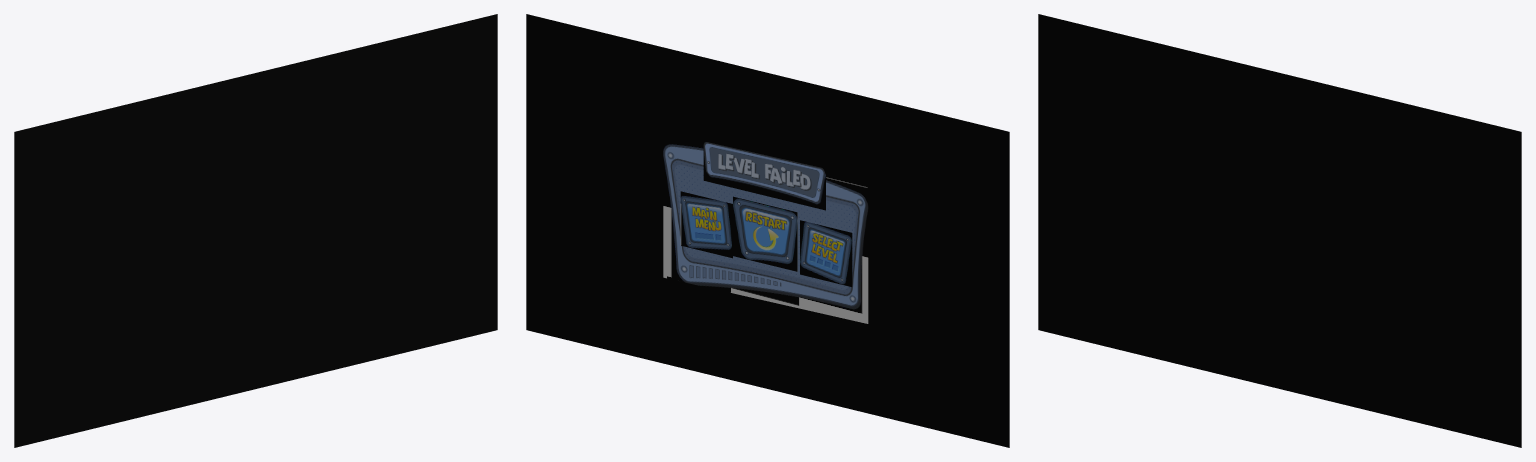
Rendered from level_failed_window.glb.
3 views of the same model, side by side, from view 1: azimuth 30°, elevation 25°; view 2: azimuth 150°, elevation 25°; view 3: azimuth 330°, elevation 25° (orthographic).
Visible parts, largest first — view 1: Shader; view 2: Shader, level_failed_window, level_failed_n, restart_GUI, main_menu_GUI, select_level_GUI; view 3: Shader.
Boxes of the visible parts, <box> form: Shader: <box>14,14,497,447</box>; Shader: <box>526,14,1009,447</box>; level_failed_window: <box>663,137,868,323</box>; level_failed_n: <box>703,141,825,210</box>; restart_GUI: <box>733,196,797,271</box>; main_menu_GUI: <box>680,191,732,258</box>; select_level_GUI: <box>800,220,852,286</box>; Shader: <box>1038,14,1521,447</box>.
Bounding box in the file's own units: 1300 × 812 × 15.5.
2 materials, 2 textured.
